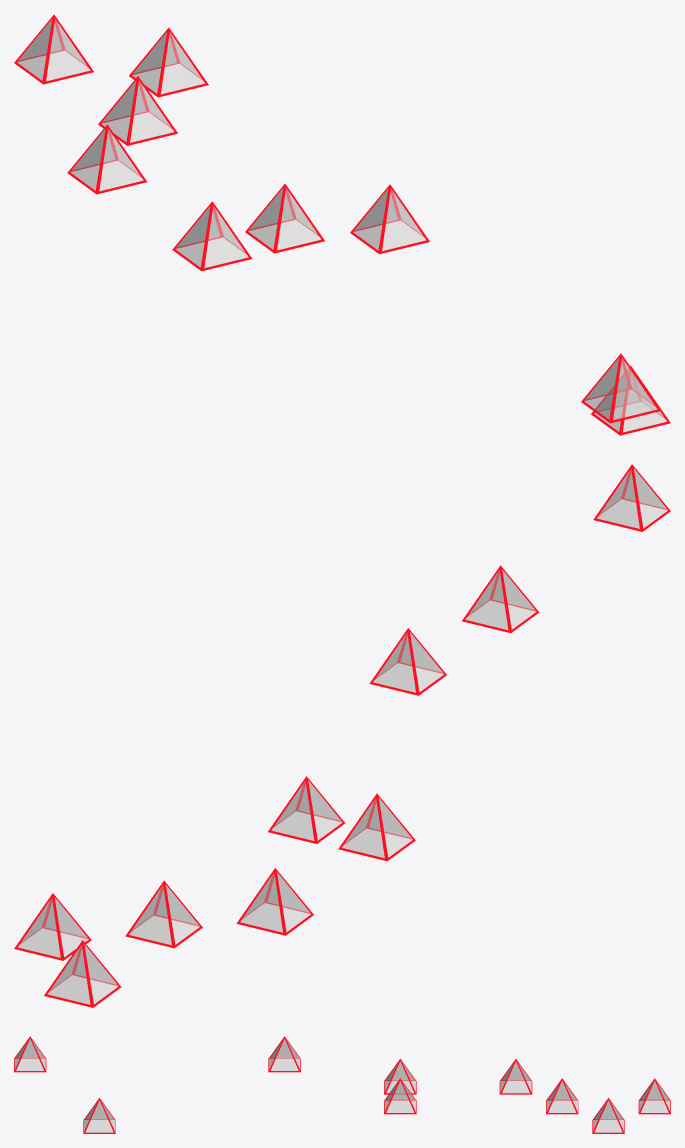
The model's file is (2)Easy Spike.fbx.
The picture shows the model from 3 angles, top to bottom: view 1: azimuth 30°, elevation 25°; view 2: azimuth 150°, elevation 25°; view 3: azimuth 270°, elevation 25°; orthographic projection. The views are drawn at different scales.
Parts seen in each view (by area): view 1: Spike..012, Spike..016, Spike..015, Spike..018, Spike..013, Spike..014, Spike..017, Spike..019, Spike..011; view 2: Spike..011, Spike..014, Spike..017, Spike..012, Spike..015, Spike..016, Spike..013, Spike..018, Spike..019; view 3: Spike..014, Spike..017, Spike..018, Spike..013, Spike..016, Spike..012, Spike..011, Spike..019, Spike..015.
Boxes of the visible parts, <box> form: Spike..012: <box>581,353,660,423</box>; Spike..016: <box>67,124,146,194</box>; Spike..015: <box>172,201,252,271</box>; Spike..018: <box>14,14,93,84</box>; Spike..013: <box>350,184,429,254</box>; Spike..014: <box>245,183,324,253</box>; Spike..017: <box>98,76,177,145</box>; Spike..019: <box>129,27,208,97</box>; Spike..011: <box>591,365,670,435</box>; Spike..011: <box>462,565,539,633</box>; Spike..014: <box>268,776,345,843</box>; Spike..017: <box>125,880,202,948</box>; Spike..012: <box>593,464,670,531</box>; Spike..015: <box>338,793,415,861</box>; Spike..016: <box>236,868,313,935</box>; Spike..013: <box>369,628,446,695</box>; Spike..018: <box>44,940,121,1007</box>; Spike..019: <box>14,893,91,960</box>; Spike..014: <box>384,1078,416,1114</box>; Spike..017: <box>546,1078,578,1114</box>; Spike..018: <box>638,1078,670,1114</box>; Spike..013: <box>268,1036,300,1072</box>; Spike..016: <box>499,1059,532,1094</box>; Spike..012: <box>14,1036,46,1072</box>; Spike..011: <box>83,1098,115,1133</box>; Spike..019: <box>592,1098,624,1133</box>; Spike..015: <box>384,1058,416,1094</box>.
Bounding box in the file's own units: 540 × 340 × 2840.
